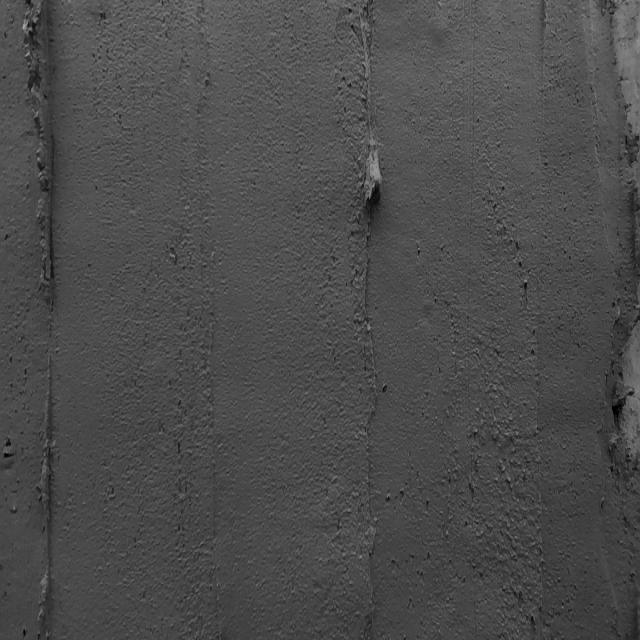trowels marks: (20, 2, 56, 640), (359, 5, 382, 404)
